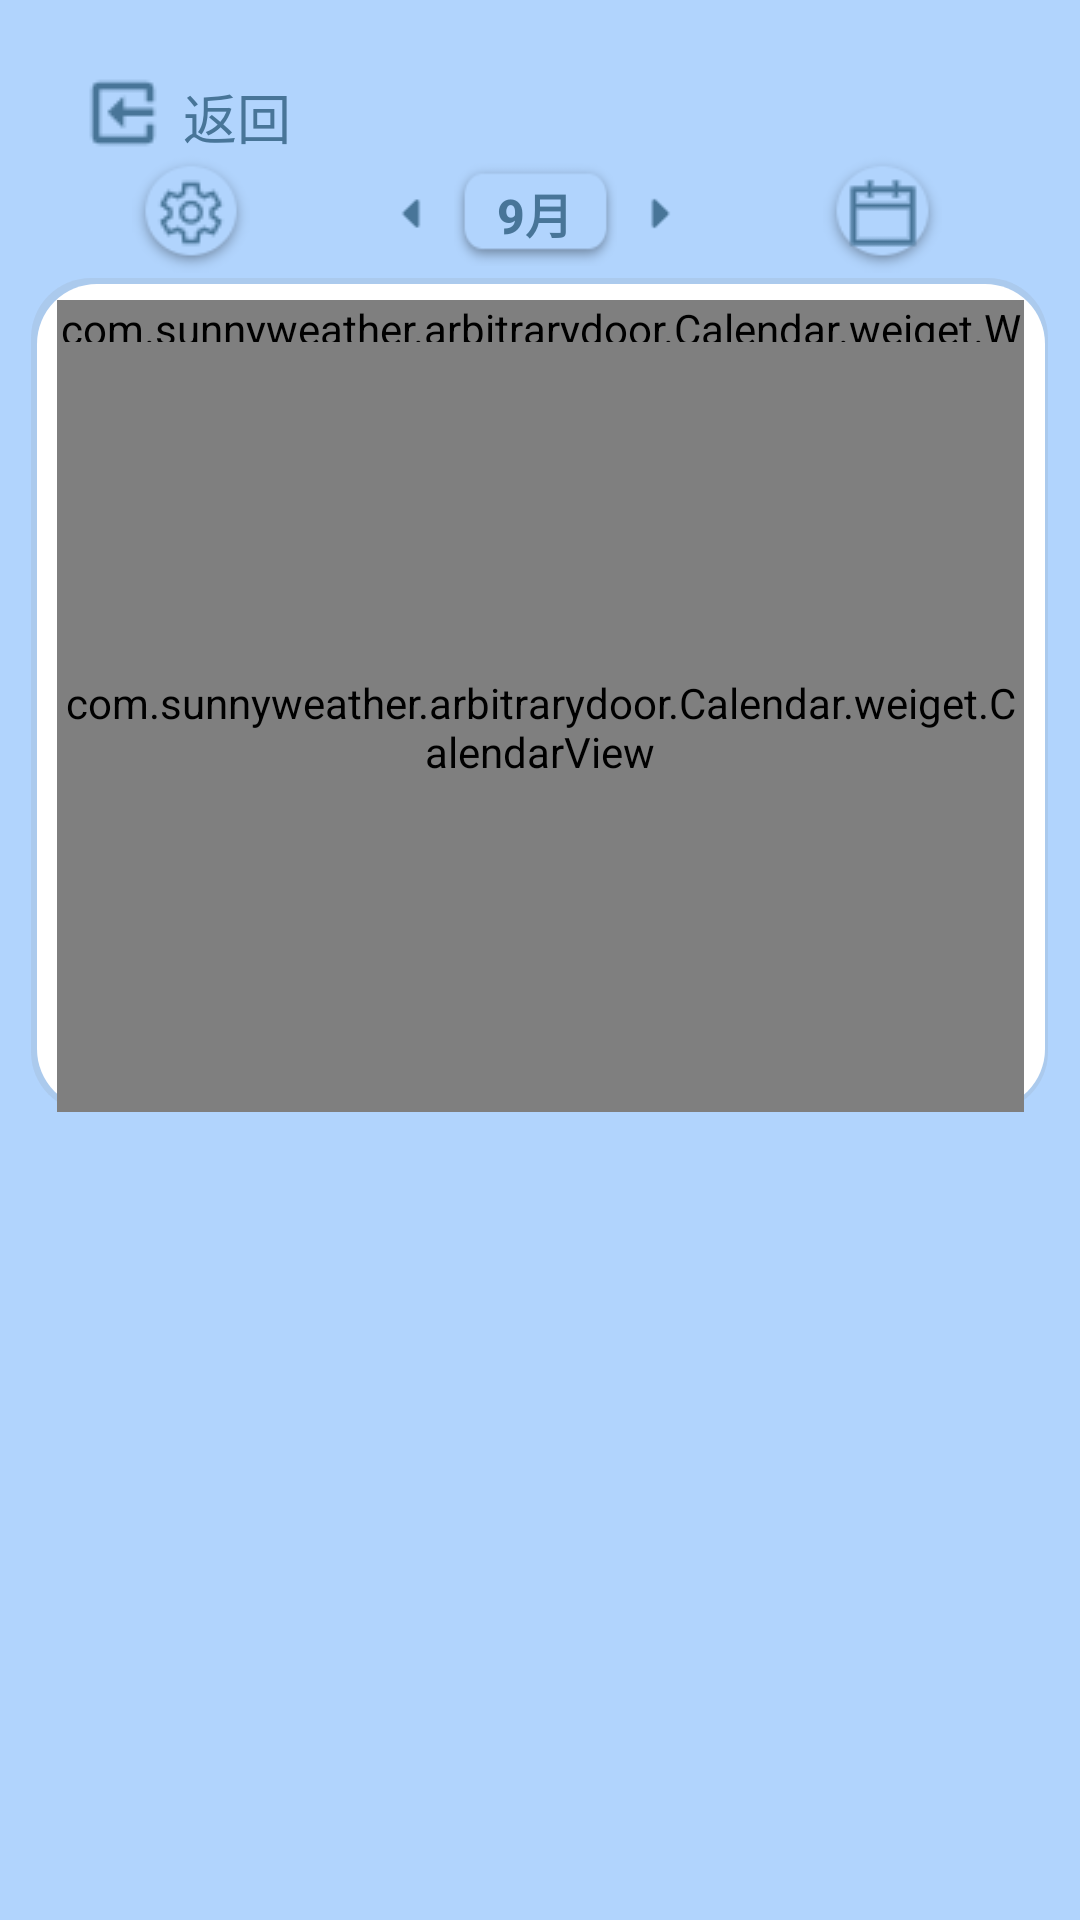

Icon bounding boxes for this 1080 x 1920 phone screenshot, format {"left": x1, "top": y1, "right": x2, "bottom": y2}:
last month: {"left": 402, "top": 199, "right": 420, "bottom": 228}
next month: {"left": 651, "top": 199, "right": 669, "bottom": 228}
smallcalendar: {"left": 833, "top": 179, "right": 932, "bottom": 263}
